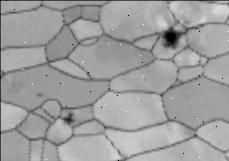good_void: (159, 23, 185, 52), (60, 112, 74, 128), (36, 92, 43, 98), (197, 58, 202, 63), (143, 76, 147, 82)
